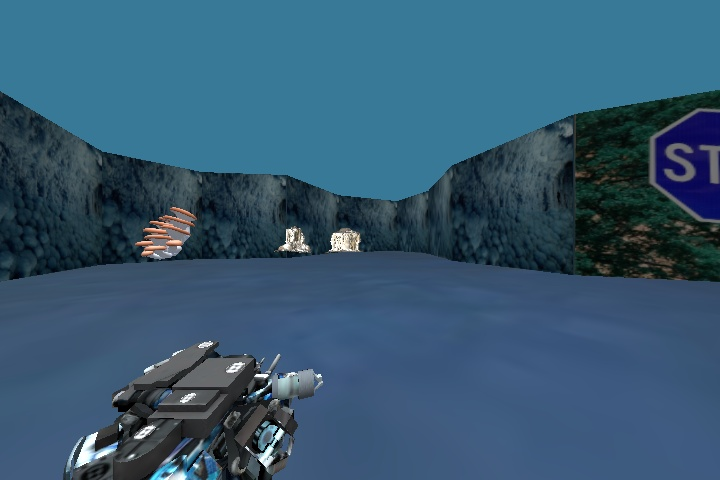formation: (328, 221, 367, 255), (279, 221, 313, 257)
mushrooms: (132, 201, 194, 263)
